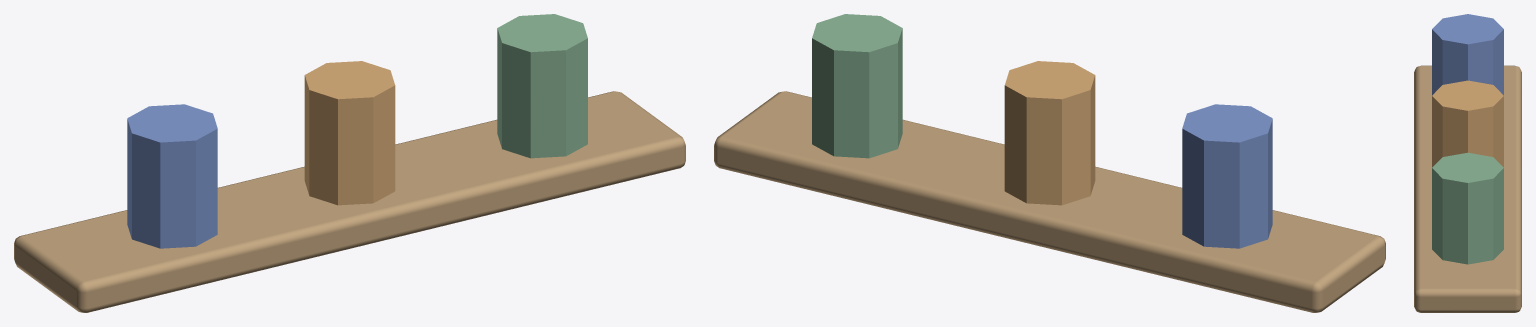
File: shelf_wall.glb
The picture shows the model from 3 angles, left to right: view 1: azimuth 30°, elevation 25°; view 2: azimuth 150°, elevation 25°; view 3: azimuth 270°, elevation 25°; orthographic projection. The views are drawn at different scales.
Visible parts, largest first — view 1: plank, jar0.0, jar-0.35, jar0.38; view 2: plank, jar0.0, jar-0.35, jar0.38; view 3: plank, jar0.38, jar0.0, jar-0.35.
Part boxes in pixels (<box>): plank: <box>14,91,685,312</box>; jar0.0: <box>304,61,395,205</box>; jar-0.35: <box>127,104,217,248</box>; jar0.38: <box>497,14,587,158</box>; plank: <box>714,91,1385,312</box>; jar0.0: <box>1004,61,1095,205</box>; jar-0.35: <box>1182,104,1272,248</box>; jar0.38: <box>812,14,902,158</box>; plank: <box>1414,65,1521,312</box>; jar0.38: <box>1432,152,1503,264</box>; jar0.0: <box>1432,80,1503,167</box>; jar-0.35: <box>1432,14,1503,95</box>.
Bounding box in the file's own units: 1.2 × 0.26 × 0.24.
